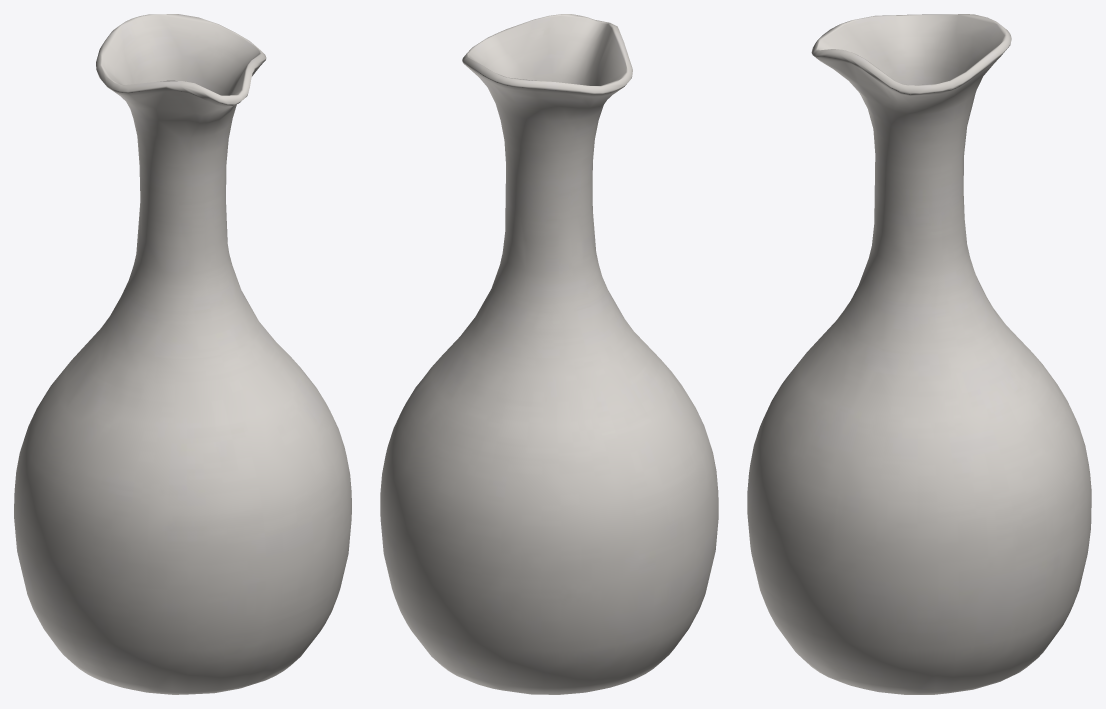
The model's file is ceramic_vase_01.glb.
The picture shows the model from 3 angles, left to right: view 1: azimuth 30°, elevation 25°; view 2: azimuth 150°, elevation 25°; view 3: azimuth 270°, elevation 25°; orthographic projection.
Visible parts, largest first — view 1: ceramic_vase_01; view 2: ceramic_vase_01; view 3: ceramic_vase_01.
Boxes of the visible parts, x1,y1,x2,y2 form: ceramic_vase_01: (14, 14, 351, 694); ceramic_vase_01: (380, 14, 718, 694); ceramic_vase_01: (747, 14, 1091, 694).
Size of the model in its own units: 0.2036 by 0.4003 by 0.2035.
Materials: 1 (1 with a texture image).
